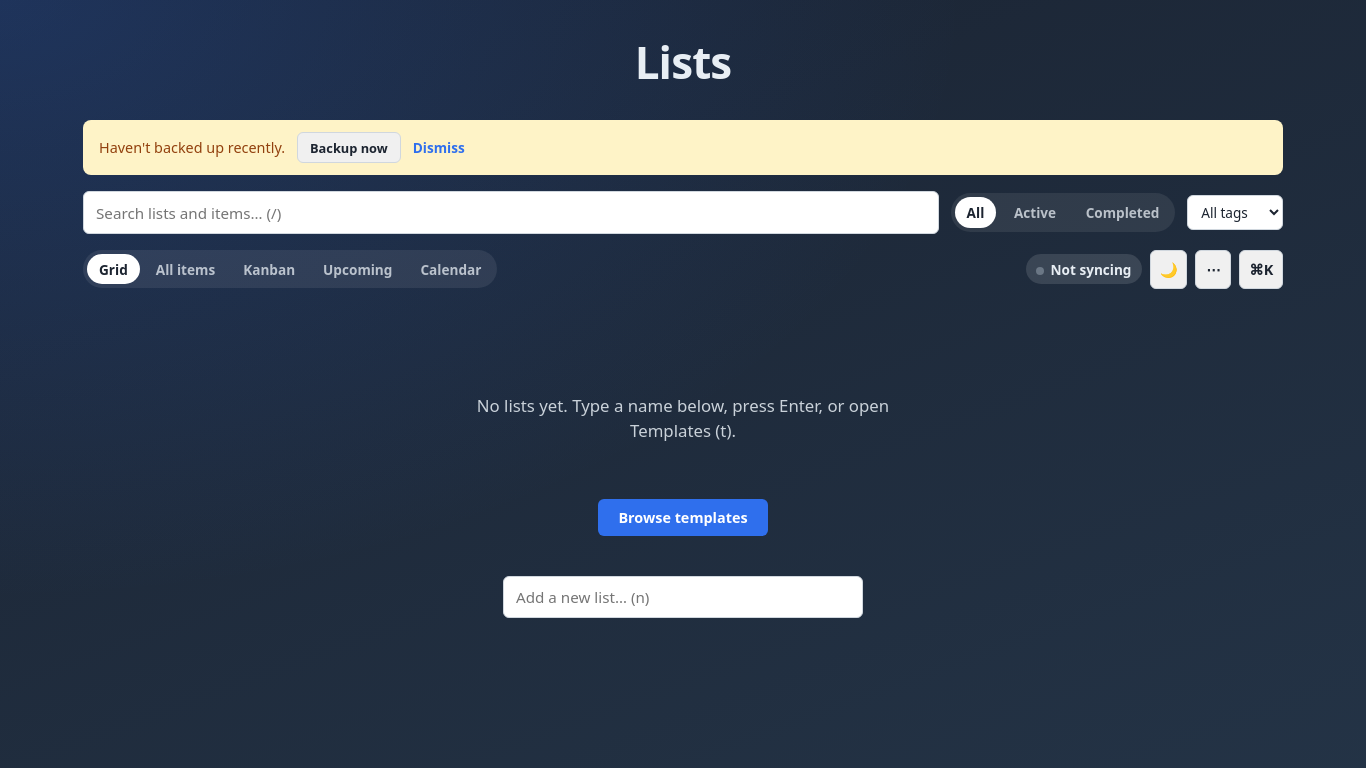
Test: search filter finds lists by name
The image size is (1366, 768).
In the field labelled "Add a new list… (n)": [683, 597] box [503,576,863,618], type "Alpha"
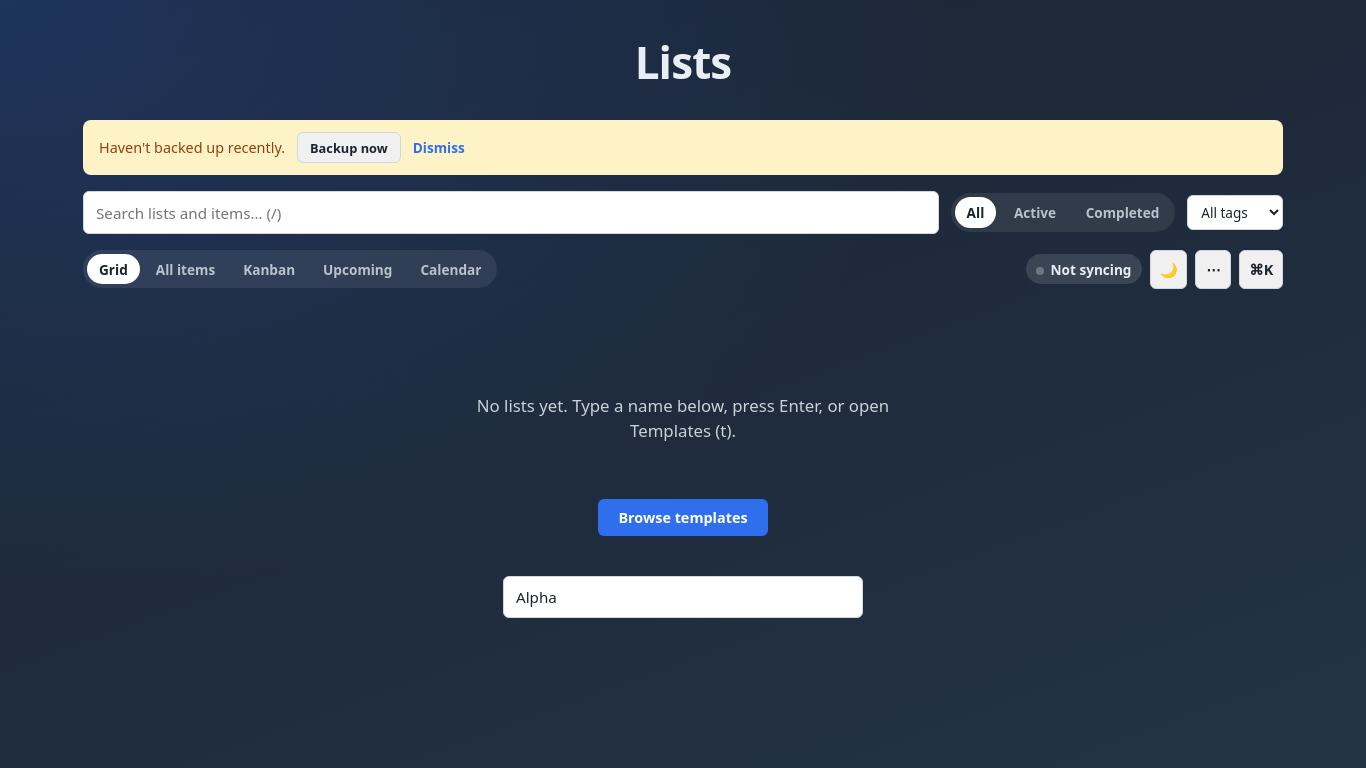
Press Enter in the field named "Add a new list", box [503,576,863,618]
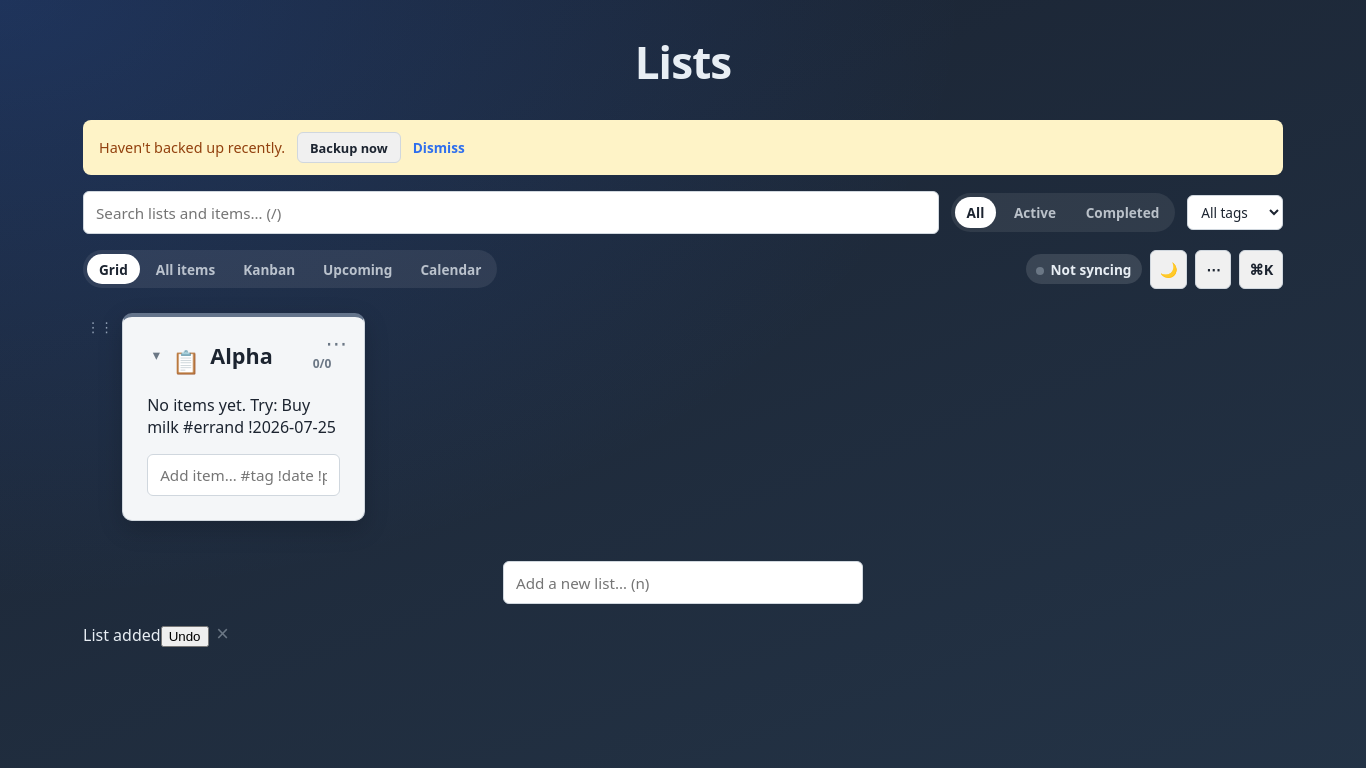
In the field labelled "Add a new list… (n)": [683, 583] box [503,561,863,604], type "Beta"
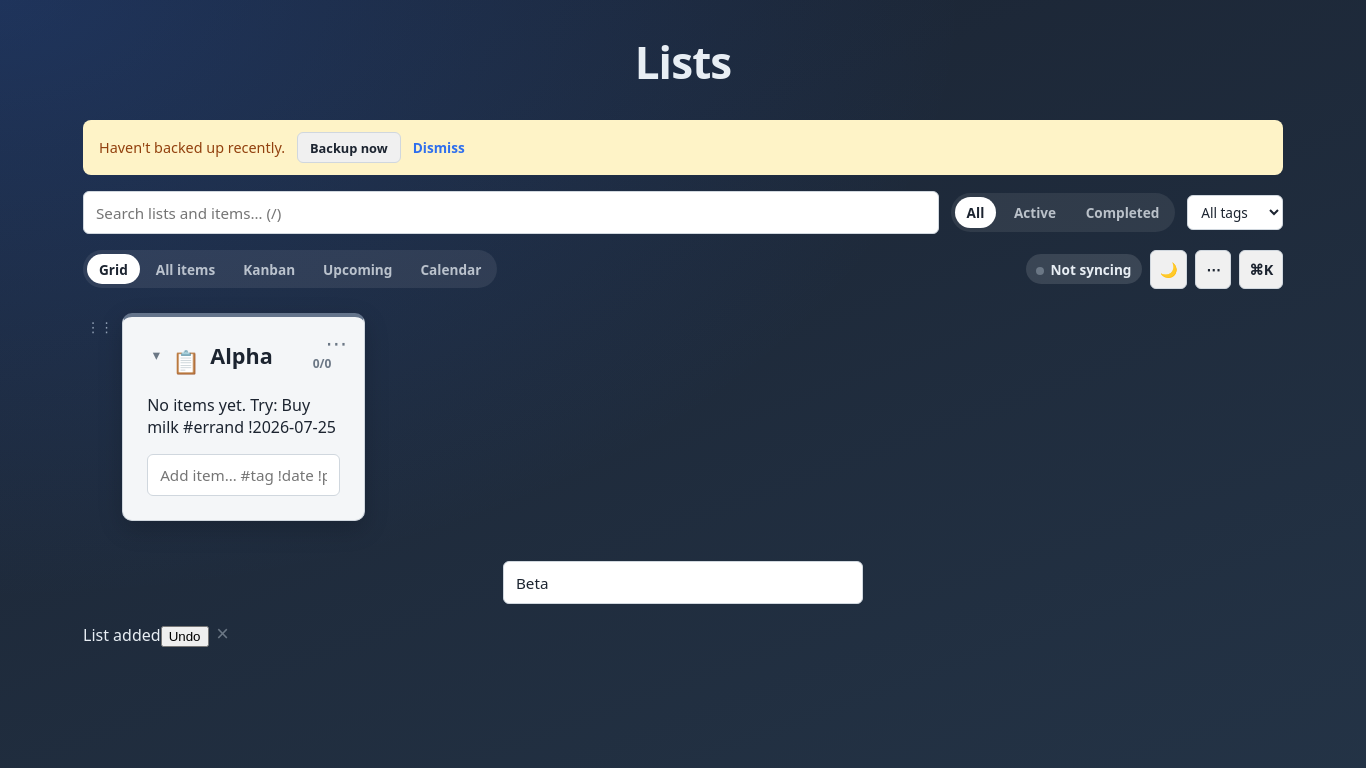
Press Enter in the field named "Add a new list", box [503,561,863,604]
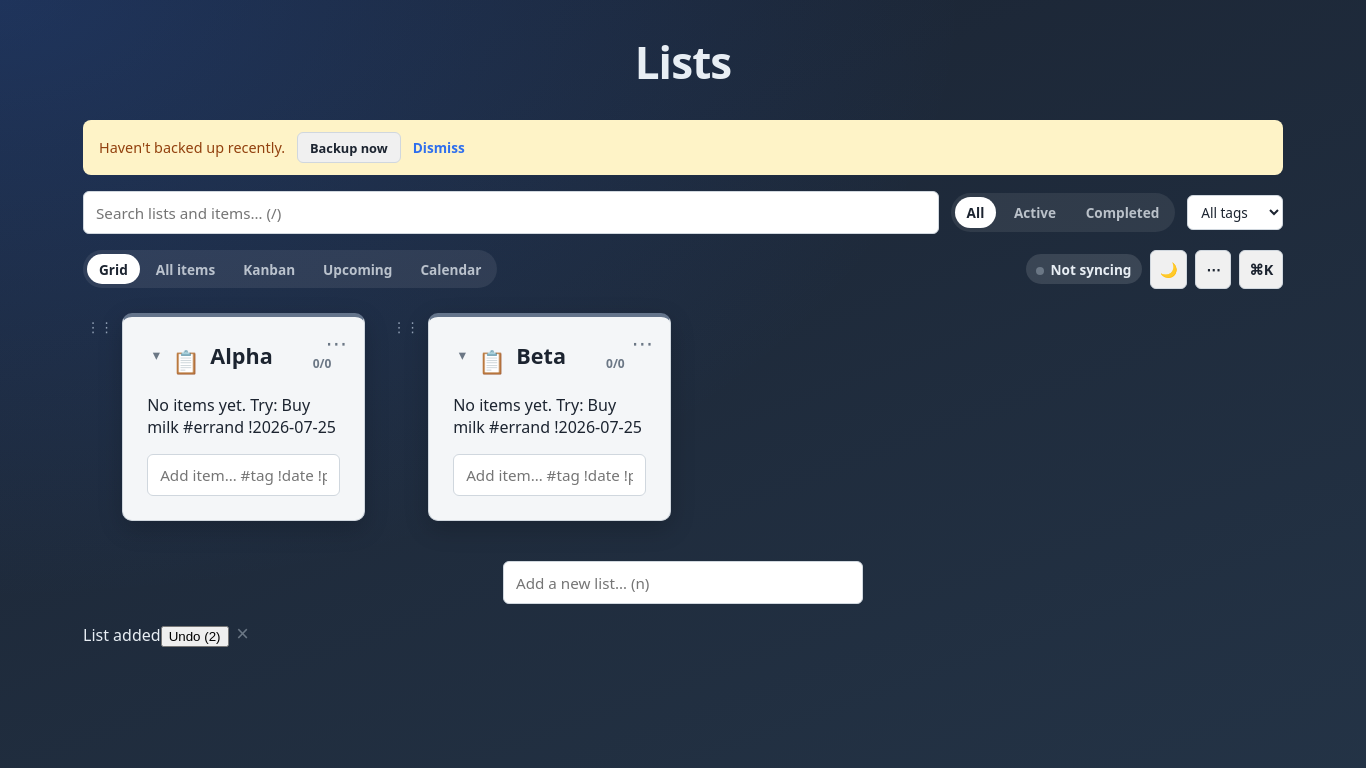
In the search field labelled "Search lists and items… (/)": [511, 213] box [83,191,939,234], type "Beta"
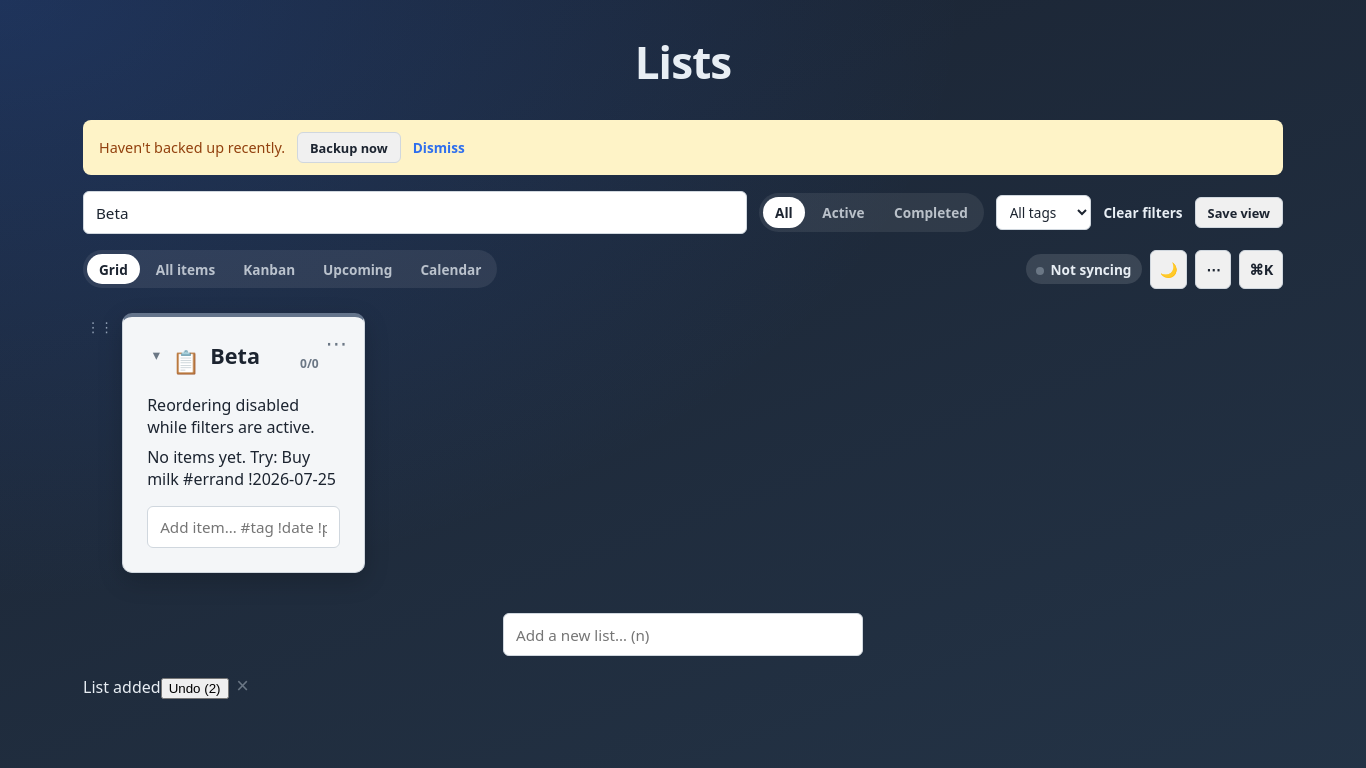
Expected: the button "Beta" is shown, [210,341,260,370]
Expected: the button "Alpha" is gone
